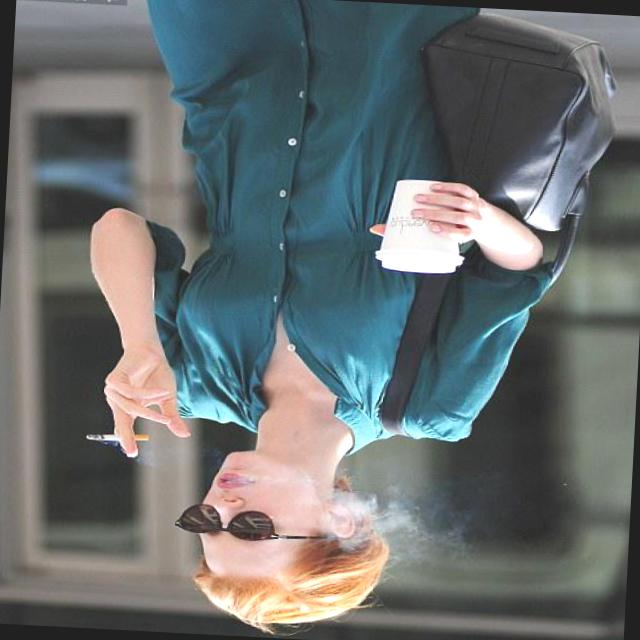cigarette: (80, 428, 156, 456)
